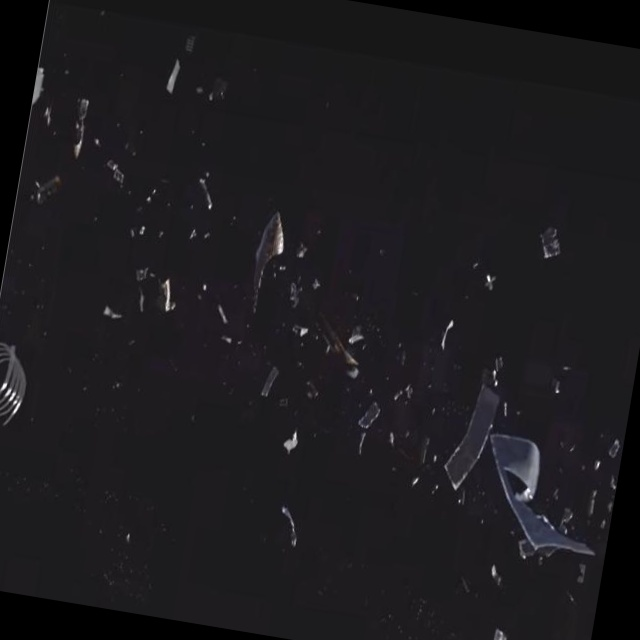large_debris: (464, 409, 622, 579), (437, 379, 502, 493), (239, 197, 290, 329), (0, 341, 33, 433), (325, 321, 371, 385), (346, 392, 384, 460), (270, 499, 305, 552), (186, 169, 222, 220), (530, 218, 569, 265), (583, 452, 606, 521), (69, 93, 90, 162), (256, 358, 282, 405), (471, 561, 505, 593), (162, 53, 185, 100), (30, 61, 50, 115), (158, 274, 182, 316), (433, 310, 457, 350), (104, 155, 131, 189), (277, 423, 303, 455), (557, 506, 579, 543), (99, 296, 127, 324), (478, 263, 501, 297), (481, 618, 515, 640), (572, 557, 592, 588), (288, 319, 310, 344), (211, 303, 231, 330), (284, 277, 300, 309), (292, 240, 312, 263), (40, 103, 58, 126), (605, 439, 620, 463), (131, 264, 146, 287), (135, 295, 149, 316), (188, 222, 199, 243), (136, 221, 148, 240), (217, 335, 234, 347), (198, 277, 208, 295), (310, 282, 321, 294)
